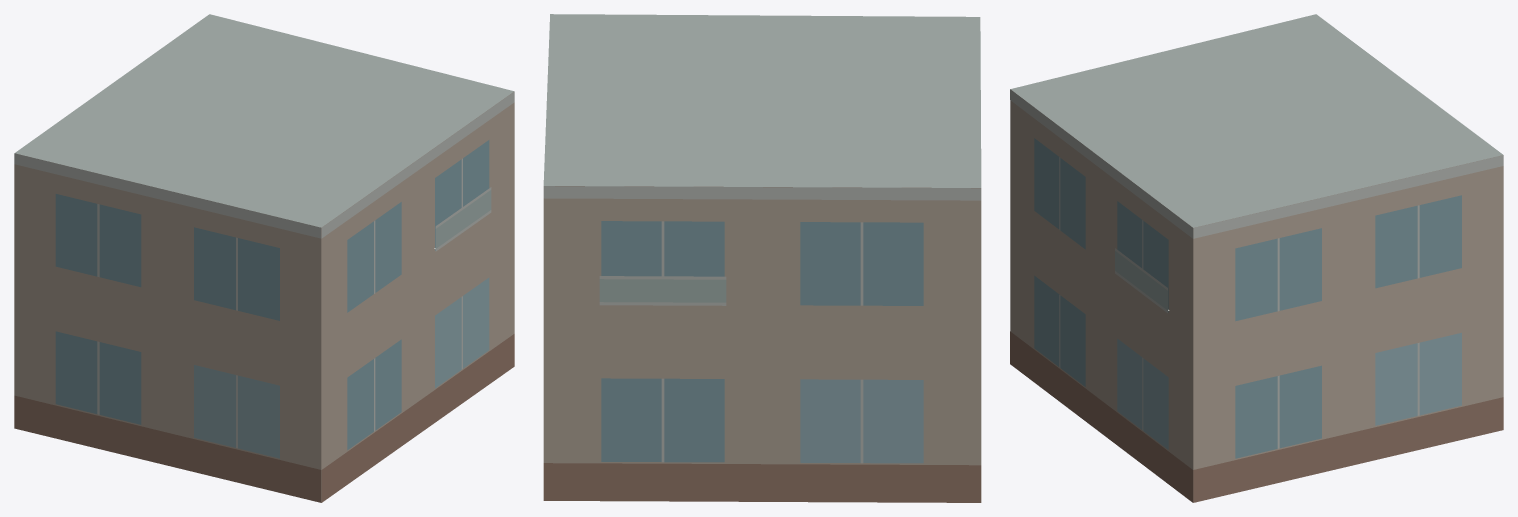
The model's file is survey-upis-32903461.glb.
3 views of the same model, side by side, from view 1: azimuth 30°, elevation 25°; view 2: azimuth 150°, elevation 25°; view 3: azimuth 270°, elevation 25° (orthographic). The views are drawn at different scales.
Visible parts, largest first — view 1: survey-upis-32903461.tmp; view 2: survey-upis-32903461.tmp; view 3: survey-upis-32903461.tmp.
Boxes of the visible parts, x1=… form: survey-upis-32903461.tmp: x1=14, y1=14, x2=514, y2=502; survey-upis-32903461.tmp: x1=543, y1=14, x2=981, y2=502; survey-upis-32903461.tmp: x1=1010, y1=14, x2=1503, y2=502.
Size of the model in its own units: 10.18 by 6.1 by 9.93.
